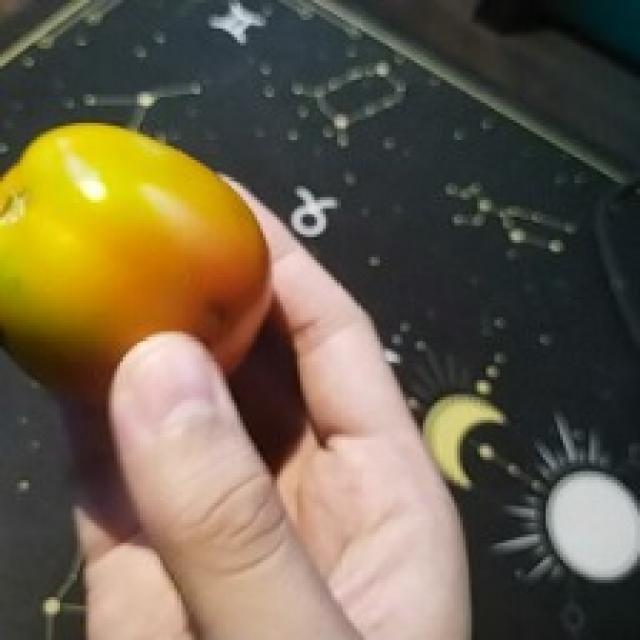Rotten Tomato: (0, 104, 280, 438)
